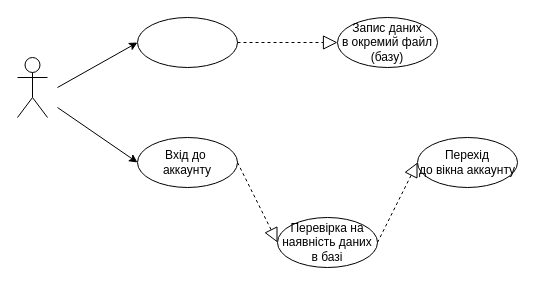
This 535x285 diagram has some shape labels left out. The shapes that lost their labels are listed below. From the top down, each one's centre as x and y in pixels, then its label:
the point at 187,42: Реєстрація в базі
the point at 32,87: Actor
